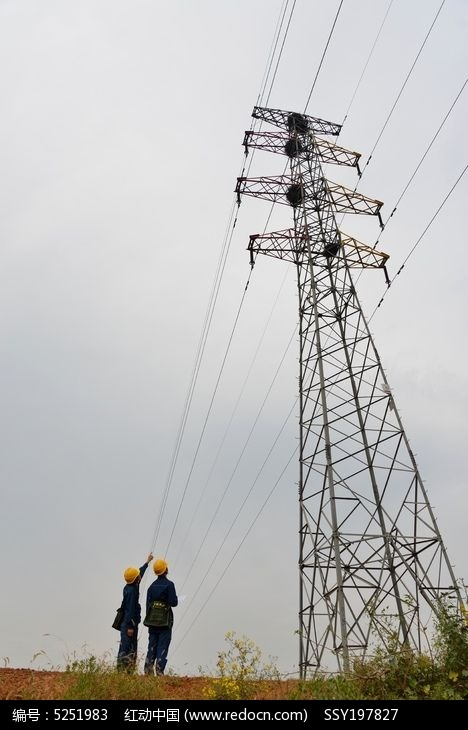yellow: (122, 566, 142, 585), (151, 557, 169, 578)
